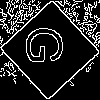G: (25, 25, 72, 66)
